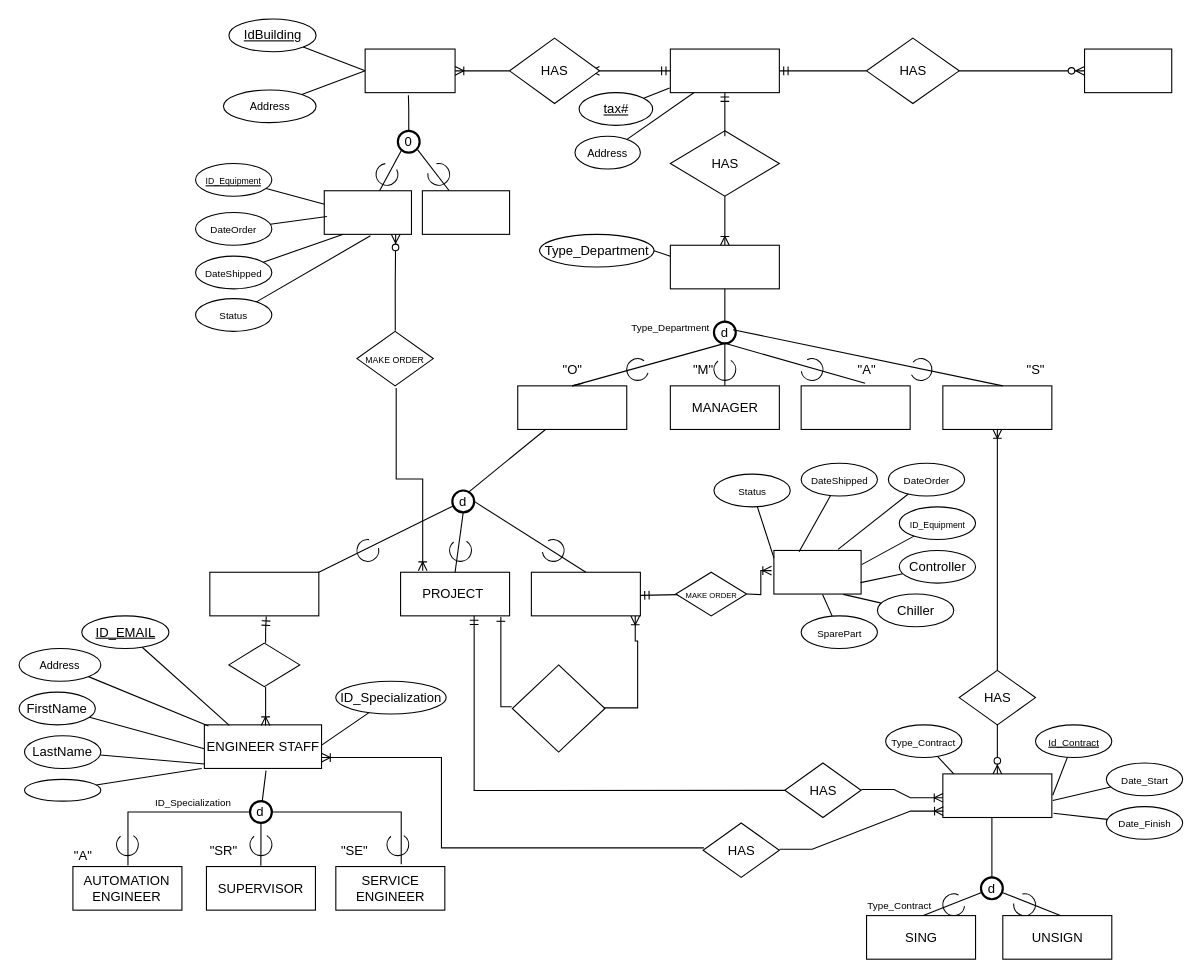
This 1202x979 diagram has some shape labels left out. Each missing label, with the centre of its shape:
ACCONTER: (855,407)
BRANCH: (1127,70)
BUILDING: (409,70)
CONTRACT: (997,795)
DELIVERY: (585,593)
DEPARTMENT: (724,266)
EQUIPMENT: (817,571)
FACTORY: (367,212)
Hour: (62,789)
Johnson Controls: (724,70)
MAKE ORDER OF ITEMS: (558,708)
OFFICE: (465,212)
OPERATION: (572,407)
PLAN STAFF: (264,664)
SALES: (997,407)
SERVICE: (264,593)
